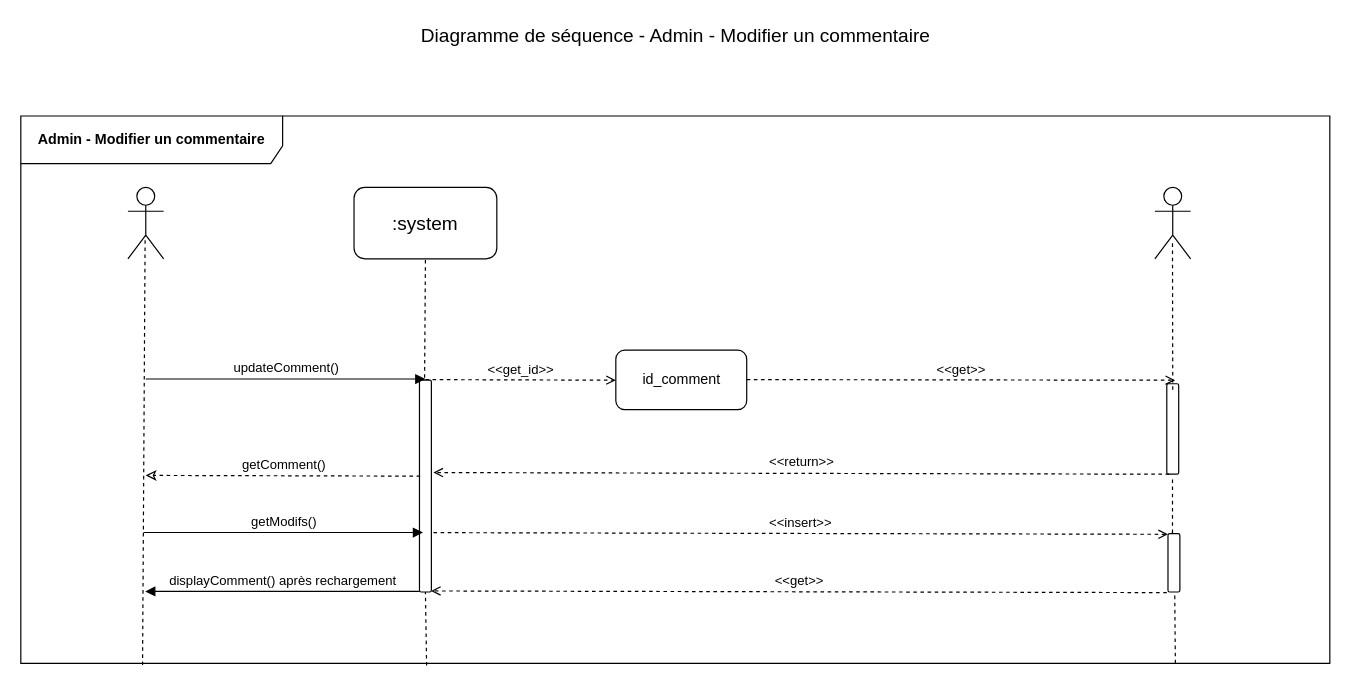
This 1351x688 diagram has some shape labels left out. Each missing label, with the centre of its shape:
:admin: [145,222]
:bdd: [1172,222]
